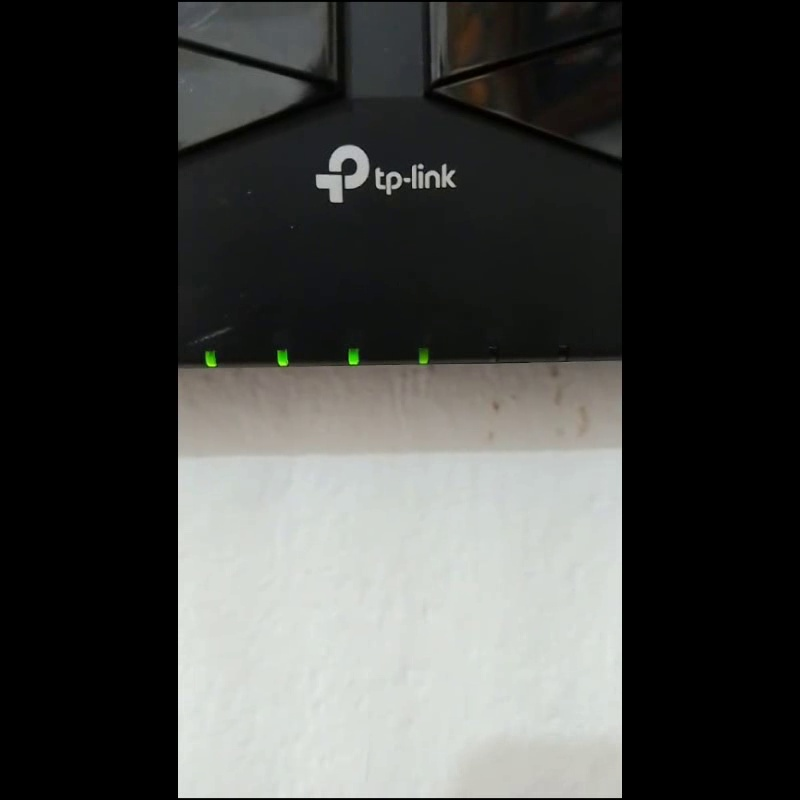off: (555, 343, 568, 360), (487, 344, 496, 362)
on_green: (276, 348, 287, 366), (418, 345, 428, 363), (348, 347, 358, 365), (205, 351, 215, 366)
